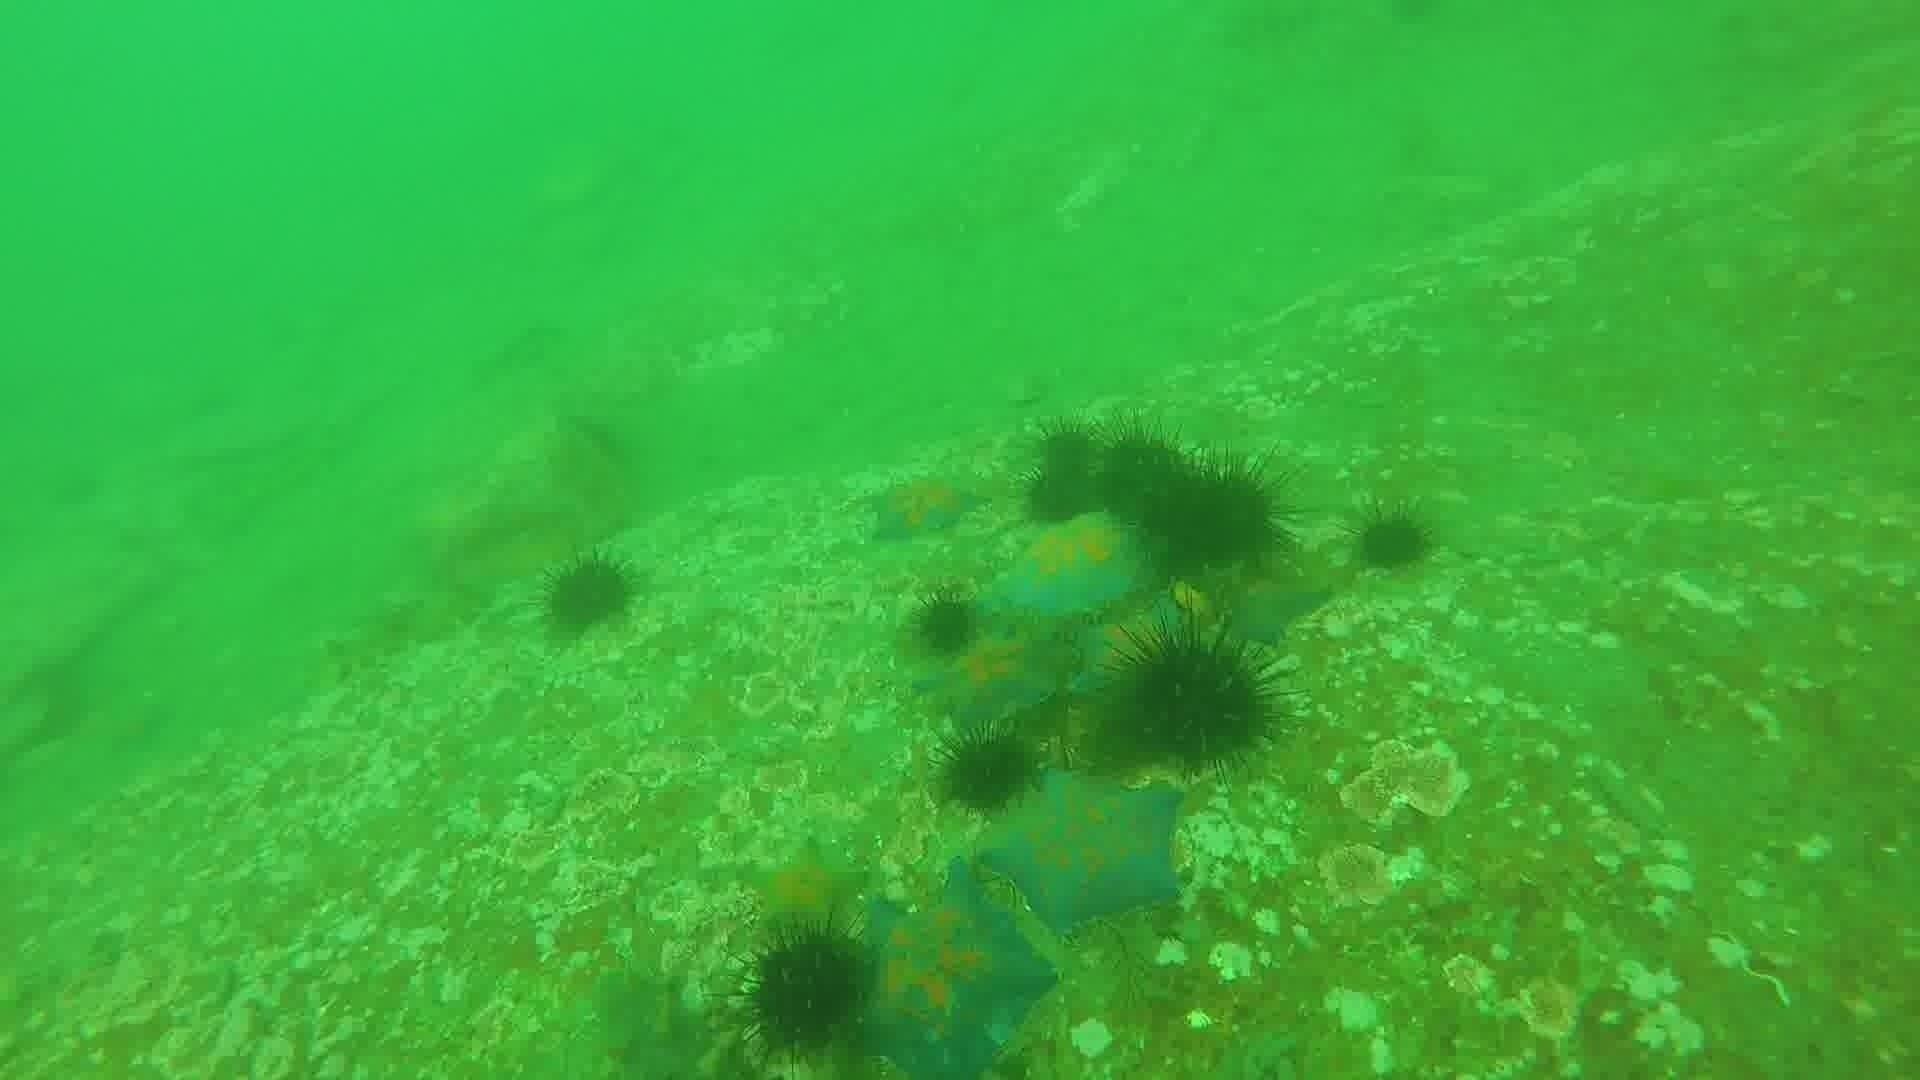echinus: (1106, 616, 1291, 774), (732, 920, 876, 1064), (1145, 455, 1291, 575), (1091, 425, 1199, 524), (534, 549, 644, 644), (934, 727, 1042, 818), (1350, 506, 1437, 579), (1013, 406, 1102, 472), (1014, 462, 1102, 527), (909, 588, 985, 659)
holothurian: (314, 576, 493, 684), (589, 964, 715, 1073)
starfish: (851, 868, 1059, 1073), (980, 765, 1193, 938), (982, 512, 1147, 626), (919, 626, 1073, 733), (740, 833, 870, 942), (862, 465, 989, 547), (1217, 567, 1337, 651)
